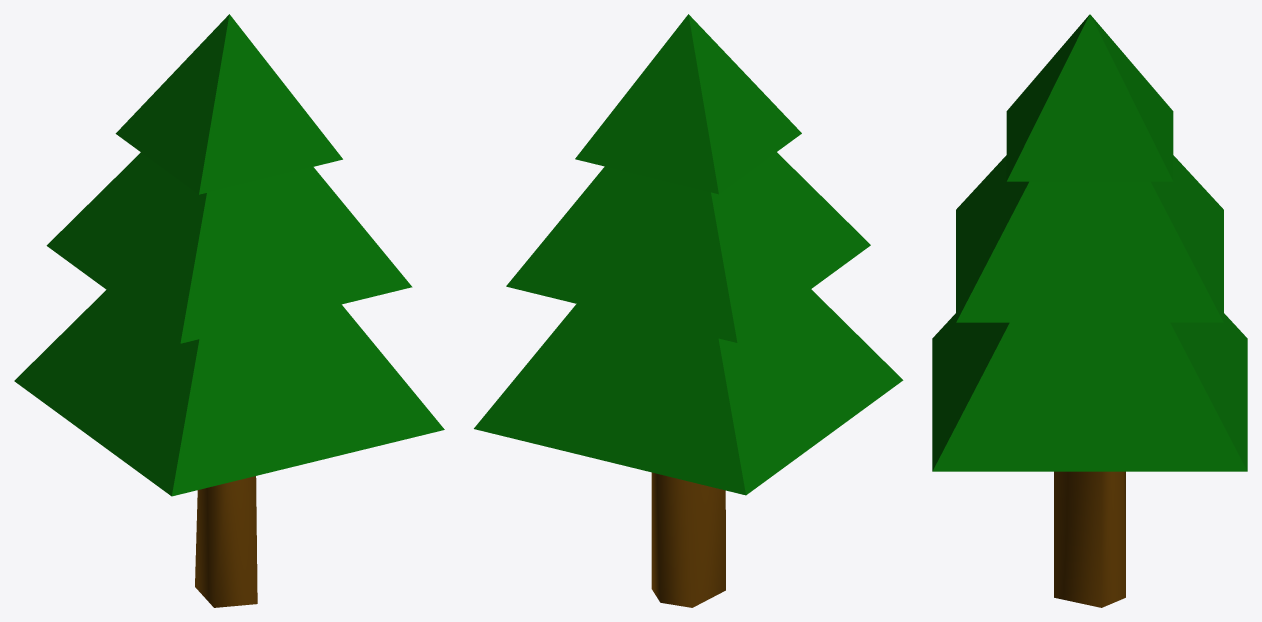
File: Tree_02.fbx
The picture shows the model from 3 angles, left to right: view 1: azimuth 30°, elevation 25°; view 2: azimuth 150°, elevation 25°; view 3: azimuth 270°, elevation 25°; orthographic projection.
Visible parts, largest first — view 1: Tree; view 2: Tree; view 3: Tree.
Boxes of the visible parts, bbox=[...] form: Tree: bbox=[14, 14, 444, 607]; Tree: bbox=[474, 14, 903, 607]; Tree: bbox=[932, 14, 1247, 607].
Size of the model in its own units: 500 by 1013 by 500.
